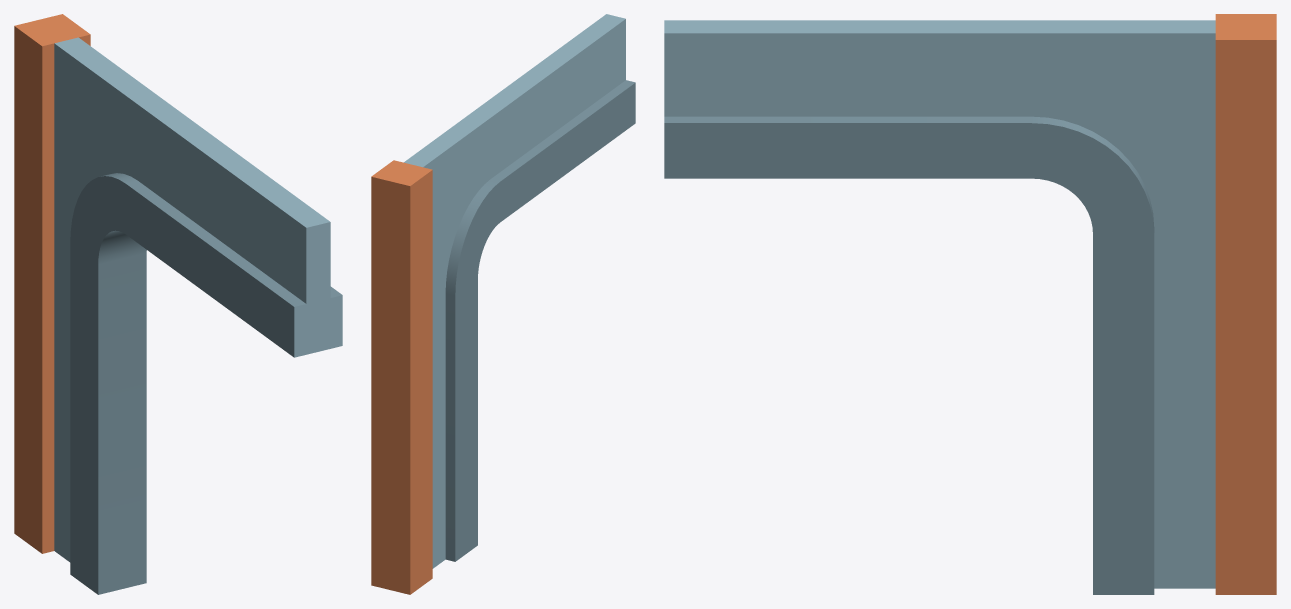
File: wallDoorwaySquareWideCurved.fbx
3 views of the same model, side by side, from view 1: azimuth 30°, elevation 25°; view 2: azimuth 150°, elevation 25°; view 3: azimuth 270°, elevation 25° (orthographic). The views are drawn at different scales.
Parts seen in each view (by area): view 1: wallDoorwaySquareWideCurved; view 2: wallDoorwaySquareWideCurved; view 3: wallDoorwaySquareWideCurved.
Boxes of the visible parts, bbox=[...] form: wallDoorwaySquareWideCurved: bbox=[14, 14, 342, 594]; wallDoorwaySquareWideCurved: bbox=[371, 14, 635, 594]; wallDoorwaySquareWideCurved: bbox=[664, 14, 1276, 594].
Size of the model in its own units: 1 by 10 by 10.
